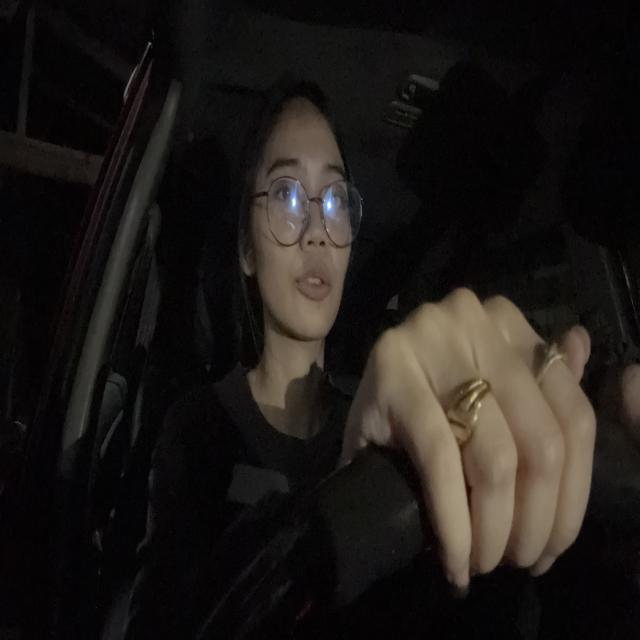open: (264, 156, 302, 220), (320, 155, 345, 225)
